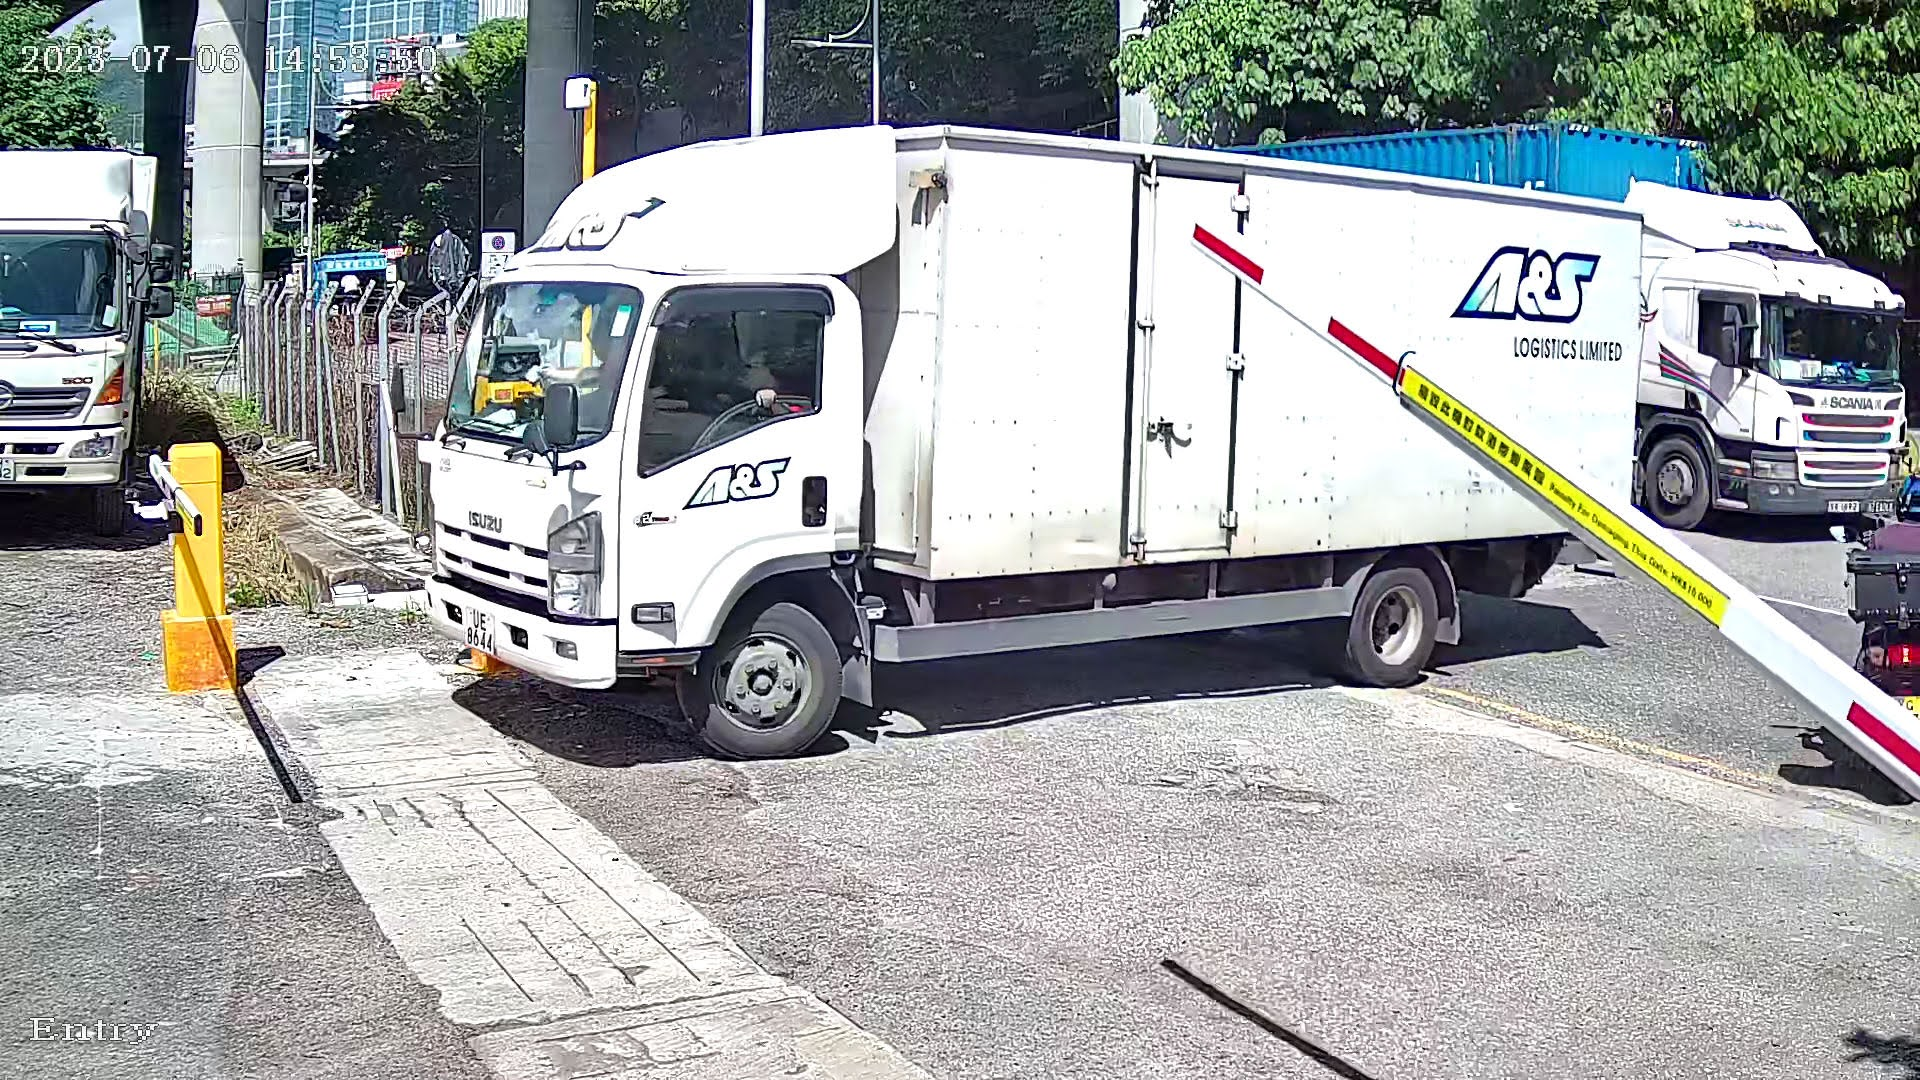truck: (388, 113, 1672, 783)
